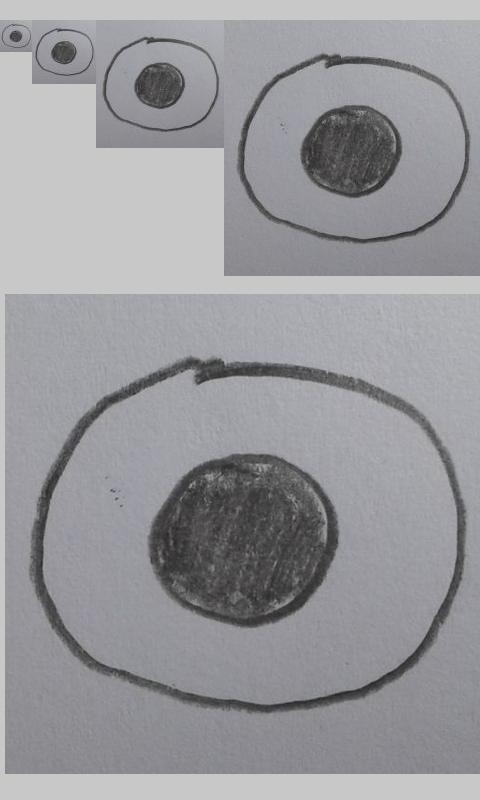radio_button: (26, 353, 469, 716), (237, 52, 471, 245), (102, 36, 219, 133), (34, 27, 94, 77), (1, 23, 32, 49)
